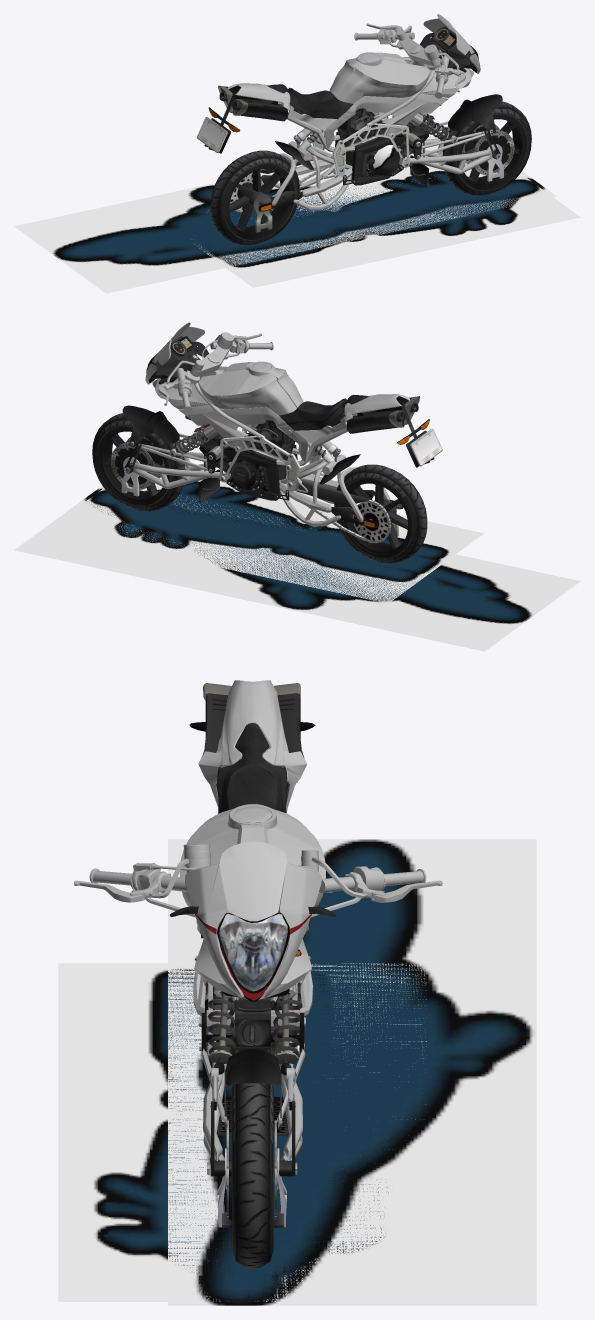
The model's file is bike2.fbx.
3 renders of one model, top to bottom at view 1: azimuth 30°, elevation 25°; view 2: azimuth 150°, elevation 25°; view 3: azimuth 270°, elevation 25°, orthographic. The views are drawn at different scales.
Parts seen in each view (by area): view 1: Shadow_SunSet, Shadow_DayLight, Body, Chrome, Rim_B, Rim_F, Tyre_B, SteeringChrome, Tyre_F, Matt, Plate; view 2: Shadow_SunSet, Shadow_DayLight, Chrome, Body, Rim_B, Rim_F, Tyre_B, SteeringChrome, Tyre_F, Matt, Plate; view 3: Shadow_SunSet, Shadow_DayLight, Body, Chrome, Tyre_F, SteeringChrome, Glass, Matt, Lights, Rim_F.
Part boxes in pixels (left/top/right/bottom): Shadow_SunSet: left=14, top=136, right=556, bottom=293; Shadow_DayLight: left=199, top=163, right=580, bottom=287; Body: left=227, top=18, right=494, bottom=210; Chrome: left=209, top=26, right=506, bottom=232; Rim_B: left=224, top=164, right=295, bottom=239; Rim_F: left=457, top=114, right=527, bottom=190; Tyre_B: left=210, top=150, right=299, bottom=245; SteeringChrome: left=354, top=23, right=465, bottom=98; Tyre_F: left=442, top=101, right=531, bottom=195; Matt: left=267, top=84, right=353, bottom=119; Plate: left=197, top=117, right=227, bottom=152; Shadow_SunSet: left=14, top=486, right=580, bottom=651; Shadow_DayLight: left=46, top=477, right=483, bottom=603; Chrome: left=118, top=335, right=429, bottom=543; Body: left=131, top=326, right=409, bottom=526; Rim_B: left=339, top=478, right=412, bottom=557; Rim_F: left=96, top=426, right=170, bottom=505; Tyre_B: left=334, top=464, right=427, bottom=563; SteeringChrome: left=158, top=332, right=273, bottom=412; Tyre_F: left=92, top=413, right=185, bottom=511; Matt: left=279, top=394, right=368, bottom=430; Plate: left=410, top=428, right=442, bottom=466; Shadow_SunSet: left=168, top=839, right=536, bottom=1305; Shadow_DayLight: left=58, top=963, right=426, bottom=1301; Body: left=180, top=680, right=325, bottom=1160; Chrome: left=169, top=683, right=336, bottom=1227; Tyre_F: left=232, top=1083, right=273, bottom=1268; SteeringChrome: left=74, top=844, right=442, bottom=917; Glass: left=220, top=841, right=287, bottom=923; Matt: left=217, top=723, right=287, bottom=813; Lights: left=219, top=914, right=300, bottom=991; Rim_F: left=226, top=1087, right=276, bottom=1249.
Size of the model in its own units: 308 by 122 by 141.
